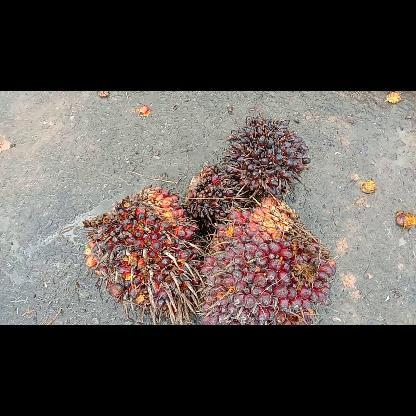TBS abnormal: (220, 111, 312, 203), (184, 158, 250, 235)
TBS masak: (80, 182, 209, 324), (197, 196, 339, 324)
